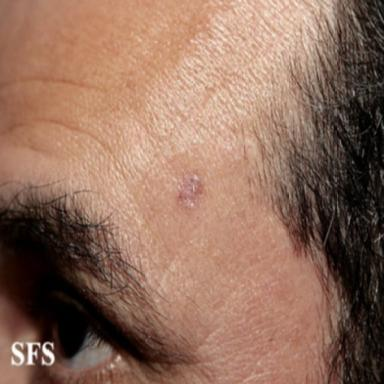basal-cell-carcinoma: (176, 174, 203, 208)
